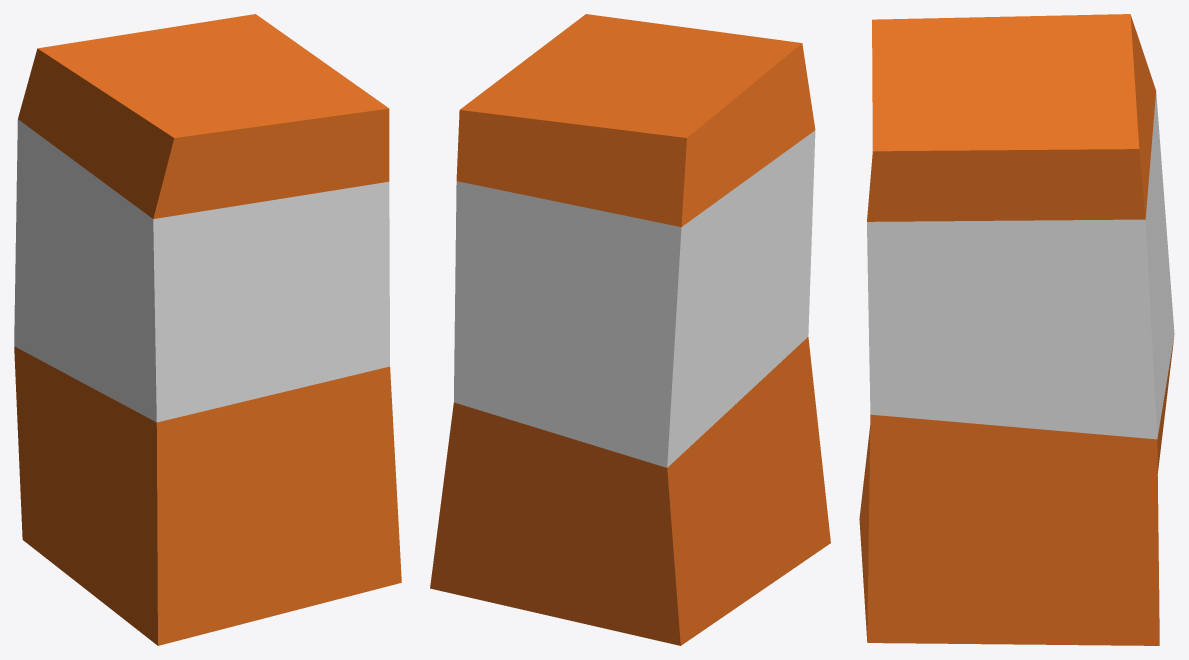
Rendered from DesertRock01.glb.
3 renders of one model, left to right at view 1: azimuth 30°, elevation 25°; view 2: azimuth 150°, elevation 25°; view 3: azimuth 270°, elevation 25°, orthographic. The views are drawn at different scales.
Parts seen in each view (by area): view 1: DesertRock01; view 2: DesertRock01; view 3: DesertRock01.
Part boxes in pixels (box(x1,y1,x2,y2)): DesertRock01: box(14, 14, 401, 645); DesertRock01: box(430, 14, 830, 645); DesertRock01: box(859, 14, 1174, 645).
Size of the model in its own units: 2 by 3.75 by 2.1.
Materials: 1 (1 with a texture image).
